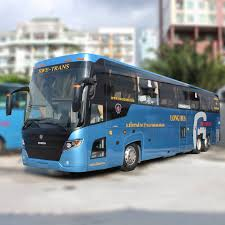bus: (21, 54, 220, 175)
